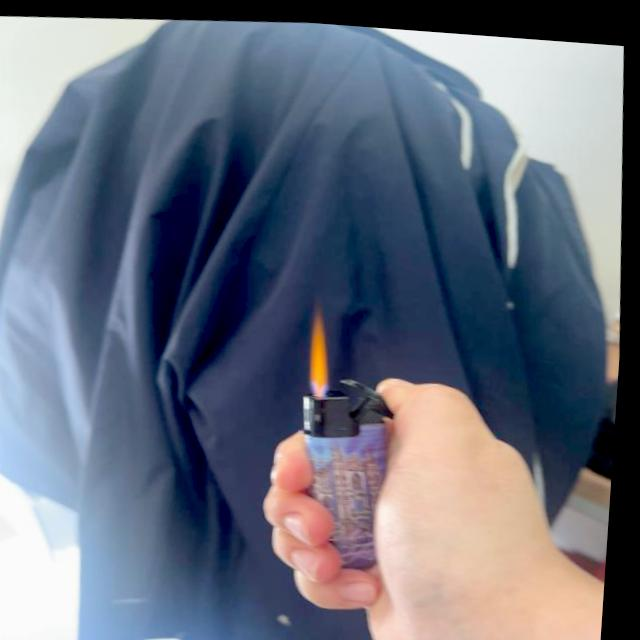helmet: (308, 305, 341, 392)
